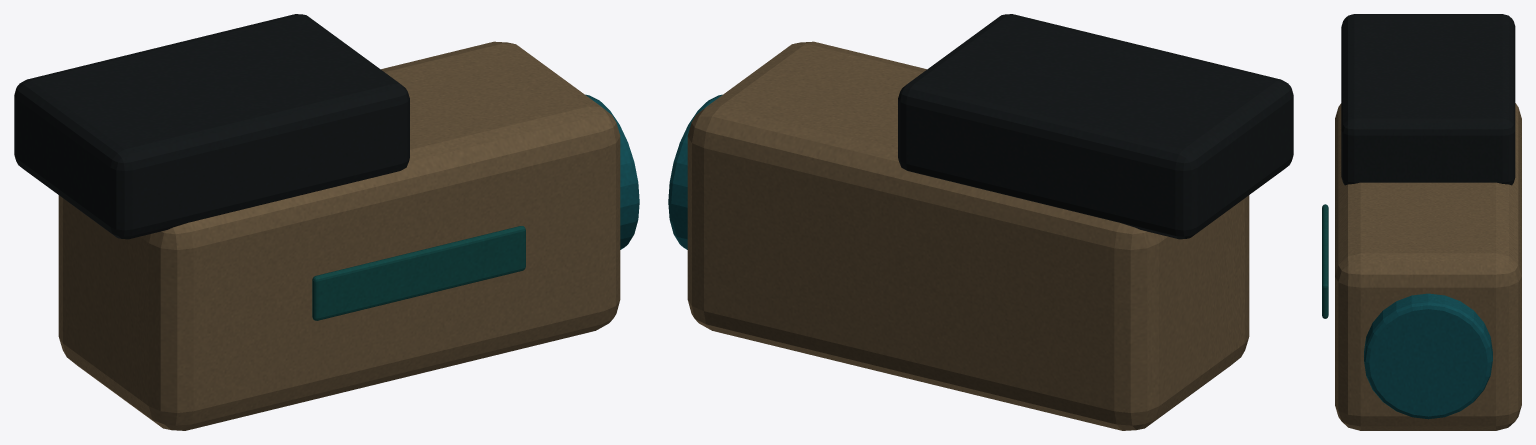
Rendered from shared.light.compact.glb.
3 renders of one model, left to right at view 1: azimuth 30°, elevation 25°; view 2: azimuth 150°, elevation 25°; view 3: azimuth 270°, elevation 25°, orthographic. The views are drawn at different scales.
Visible parts, largest first — view 1: VIS_shared_light_compact; view 2: VIS_shared_light_compact; view 3: VIS_shared_light_compact.
Part boxes in pixels (x1,y1,x2,y2): VIS_shared_light_compact: [14, 14, 639, 430]; VIS_shared_light_compact: [668, 14, 1293, 430]; VIS_shared_light_compact: [1322, 14, 1521, 430].
Size of the model in its own units: 0.076 by 0.04 by 0.031.
4 materials, 4 textured.
